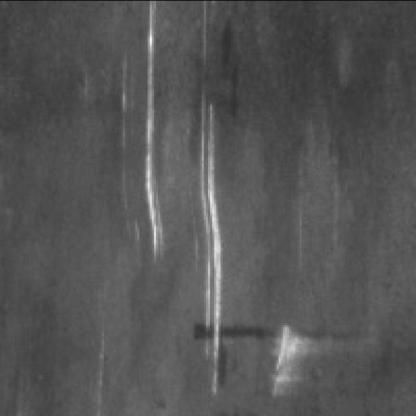inclusion: (189, 320, 366, 341)
scratches: (197, 89, 230, 391), (137, 0, 175, 256), (270, 310, 318, 393)
